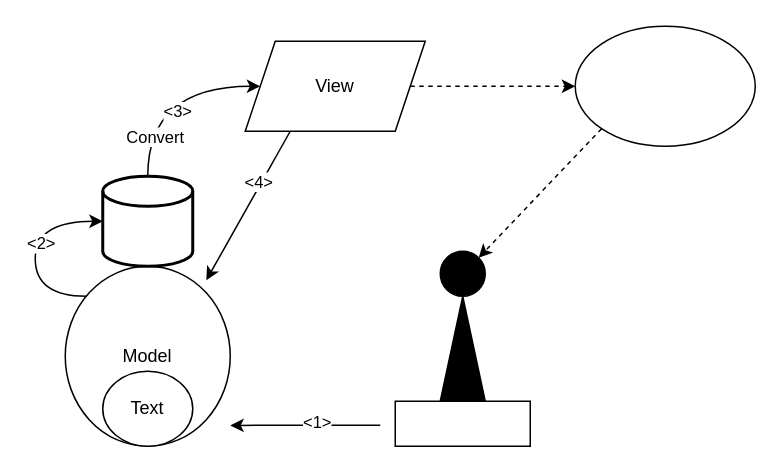
Image size: 782x473. Some labels were removed from this diagram. The centre of each missing label's shape, as x and y in pixels:
"Controller" belongs at point 462,423.
"User" belongs at point 664,85.
